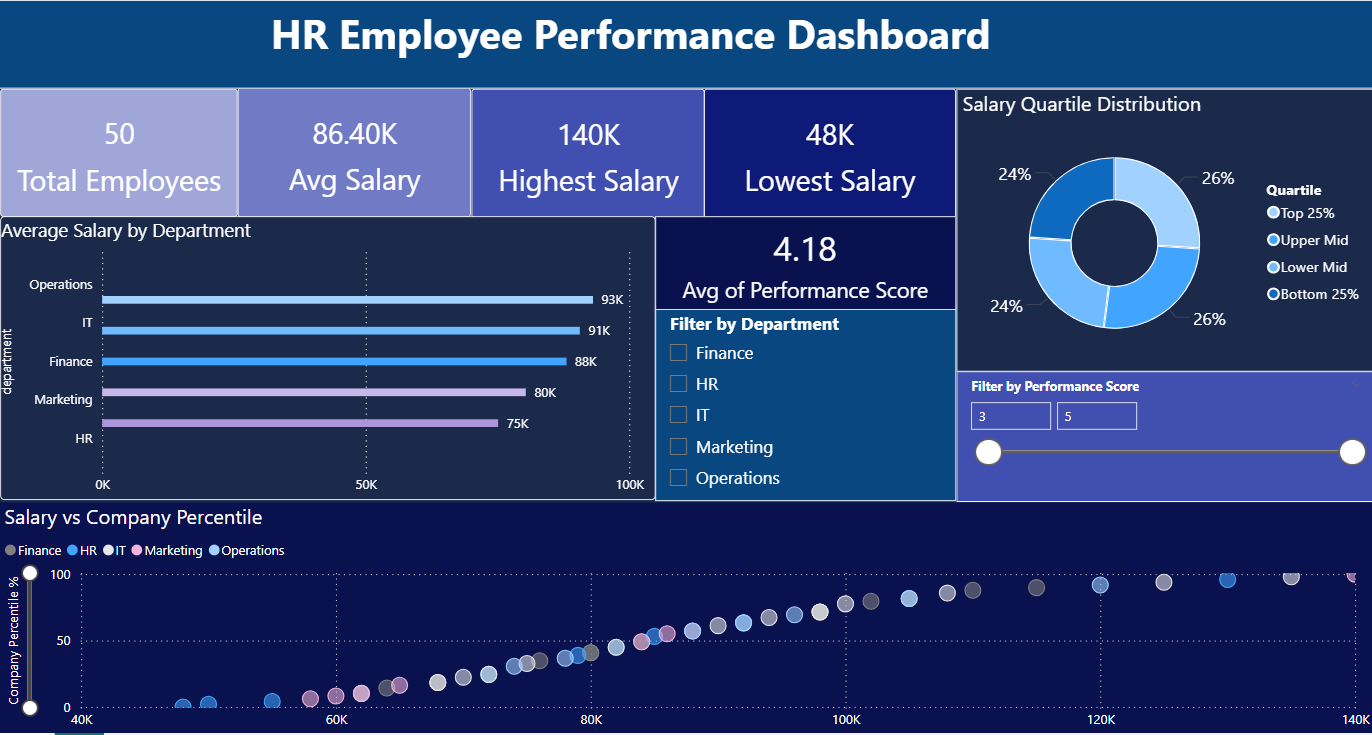

The page's visual inventory and layout, read from the dashboard file:
{"tool":"powerbi","page":{"name":"Page 1","canvas":[1280,720],"ordinal":0},"visuals":[{"type":"card","fields":{"Values":["CountNonNull(Query1.employee_name)"]},"box":[1.2,82,220.8,119.4],"z":0},{"type":"card","fields":{"Values":["Avg(Query1.salary)"]},"box":[222,80.8,217.2,120.6],"z":1000},{"type":"card","fields":{"Values":["Max(Query1.salary)"]},"box":[439.1,82,217.2,120.6],"z":2000},{"type":"card","fields":{"Values":["Min(Query1.salary)"]},"box":[656.3,82,234,120.6],"z":3000},{"type":"clusteredBarChart","title":"Average Salary by Department","fields":{"Y":["Avg(Query1.salary)"],"Category":["Query1.department"],"Series":["Query1.dept_avg_salary"]},"box":[1.2,201.5,609.3,264.2],"z":4000},{"type":"textbox","box":[0,0,1280,82],"z":5000},{"type":"donutChart","title":"Salary Quartile Distribution","fields":{"Y":["CountNonNull(Query1.employee_name)"],"Category":["Query1.Quartile"]},"box":[890.4,82,389.7,263],"z":6000},{"type":"scatterChart","title":"Salary vs Company Percentile","fields":{"X":["Sum(Query1.salary)"],"Y":["Sum(Query1.company_percentile)"],"Category":["Query1.employee_name"],"Series":["Query1.department"]},"box":[0,466.9,1280,253.4],"z":7000},{"type":"slicer","fields":{"Values":["Query1.department"]},"box":[610.5,283.5,279.9,182.2],"z":8000},{"type":"slicer","fields":{"Values":["Query1.performance_score"]},"box":[890.4,345,389.7,121.9],"z":9000},{"type":"card","fields":{"Values":["Avg(Query1.performance_score)"]},"box":[610.5,201.5,279.9,86.9],"z":10000}]}

Visuals, with their boxes on the page's 1280x720 design canvas (x1, y1, x2, y2). These are canvas units, not pixel positions in the 1372x735 screenshot, which may show the page scaled, cropped or inside an application window:
card - CountNonNull(Query1.employee_name): [left=1, top=82, right=222, bottom=201]
card - Avg(Query1.salary): [left=222, top=81, right=439, bottom=201]
card - Max(Query1.salary): [left=439, top=82, right=656, bottom=203]
card - Min(Query1.salary): [left=656, top=82, right=890, bottom=203]
"Average Salary by Department" clusteredBarChart: [left=1, top=202, right=610, bottom=466]
textbox: [left=0, top=0, right=1280, bottom=82]
"Salary Quartile Distribution" donutChart: [left=890, top=82, right=1280, bottom=345]
"Salary vs Company Percentile" scatterChart: [left=0, top=467, right=1280, bottom=720]
slicer - Query1.department: [left=610, top=284, right=890, bottom=466]
slicer - Query1.performance_score: [left=890, top=345, right=1280, bottom=467]
card - Avg(Query1.performance_score): [left=610, top=202, right=890, bottom=288]
